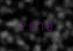eight: (45, 20, 53, 31)
seven: (36, 20, 44, 31)
six: (27, 19, 35, 30)
two: (18, 19, 26, 30)
